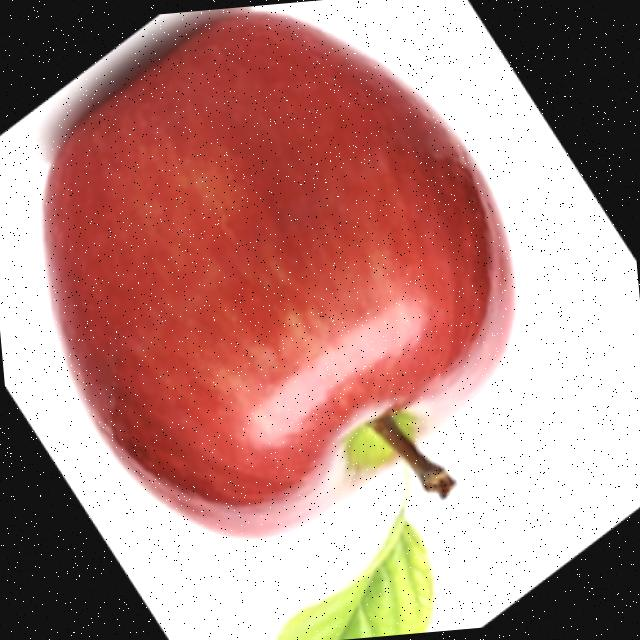Ripe: (19, 0, 542, 564)
